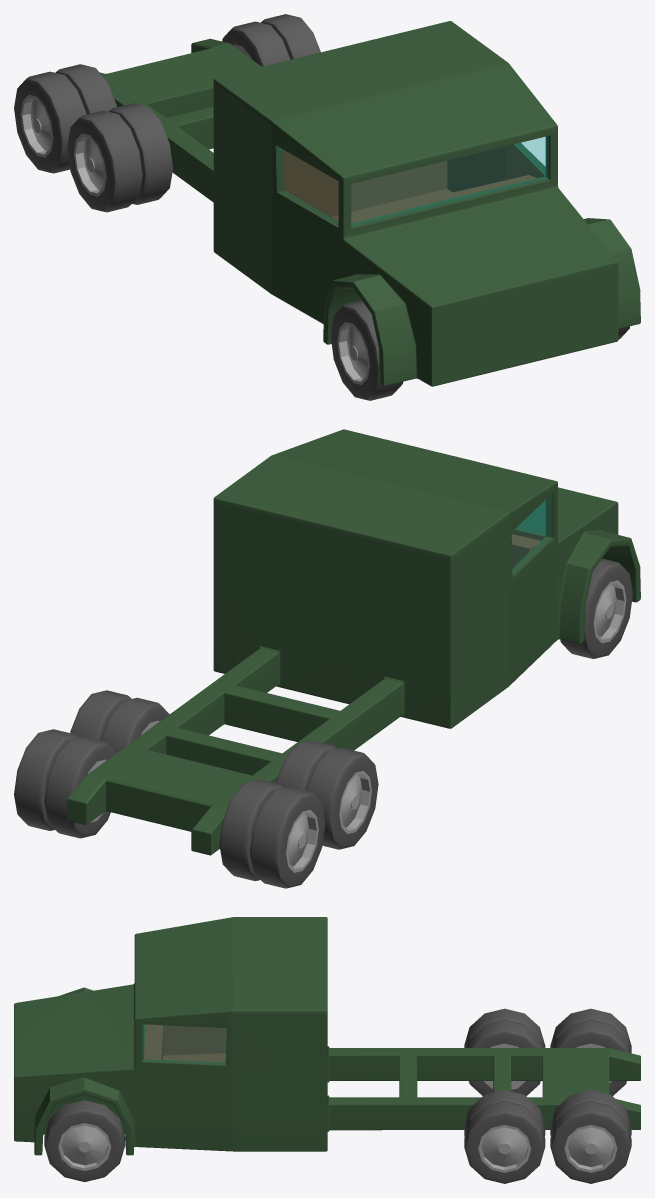
The model's file is VehicleTruckSemi1.fbx.
The picture shows the model from 3 angles, top to bottom: view 1: azimuth 30°, elevation 25°; view 2: azimuth 150°, elevation 25°; view 3: azimuth 270°, elevation 25°; orthographic projection. The views are drawn at different scales.
Visible parts, largest first — view 1: Body, Interior, GlassWindshield, WheelRMB, WheelRRB, WheelRF, WheelRMA, GlassWindowR, WheelLRA, WheelRRA, WheelLRB; view 2: Body, WheelRRB, WheelRMB, WheelRF, WheelLRA, WheelRRA, WheelLRB, WheelLMA, WheelRMA, WheelLMB, GlassWindowR, Interior; view 3: Body, WheelLMB, WheelLF, WheelLRB, Interior, GlassWindowL, WheelRMA, WheelRRA, WheelLRA, WheelLMA, WheelRRB, WheelRMB.
Boxes of the visible parts, x1,y1,x2,y2 form: Body: (99, 21, 640, 386); Interior: (283, 144, 545, 223); GlassWindshield: (352, 137, 546, 224); WheelRMB: (67, 110, 142, 212); WheelRRB: (14, 71, 86, 173); WheelRF: (330, 300, 402, 400); WheelRMA: (108, 103, 172, 204); GlassWindowR: (279, 148, 337, 221); WheelLRA: (222, 21, 290, 66); WheelRRA: (55, 64, 116, 114); WheelLRB: (261, 14, 320, 59); Body: (67, 429, 640, 855); WheelRRB: (250, 786, 325, 888); WheelRMB: (306, 748, 378, 849); WheelRF: (560, 558, 632, 658); WheelLRA: (44, 736, 116, 838); WheelRRA: (219, 779, 283, 881); WheelLRB: (14, 729, 78, 830); WheelLMA: (100, 697, 169, 752); WheelRMA: (275, 740, 336, 790); WheelLMB: (70, 690, 131, 740); GlassWindowR: (512, 499, 546, 567); Interior: (511, 529, 545, 568); Body: (14, 917, 640, 1155); WheelLMB: (464, 1102, 545, 1183); WheelLF: (44, 1100, 125, 1181); WheelLRB: (550, 1102, 631, 1183); Interior: (143, 1024, 226, 1062); GlassWindowL: (143, 1025, 226, 1062); WheelRMA: (467, 1020, 542, 1095); WheelRRA: (553, 1020, 629, 1095); WheelLRA: (550, 1090, 631, 1136); WheelLMA: (464, 1090, 545, 1136); WheelRRB: (550, 1008, 631, 1053); WheelRMB: (464, 1008, 545, 1047).
Bounding box in the file's own units: 2661 × 2002 × 6712.
